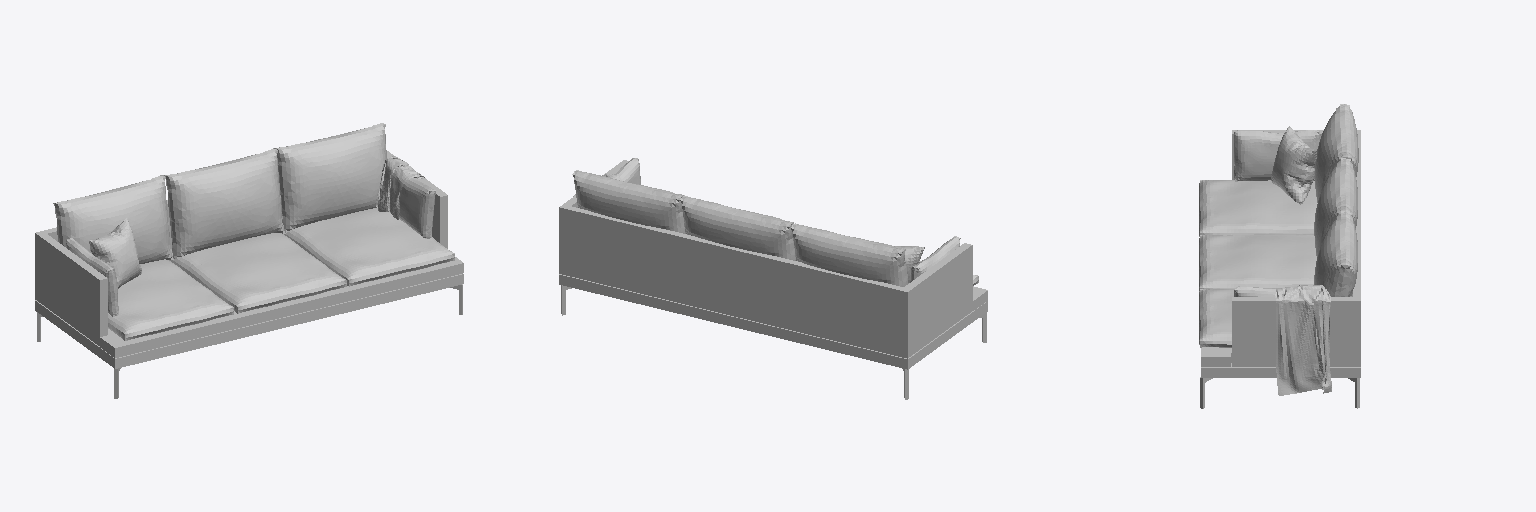
The model's file is couch_obj.obj.
The picture shows the model from 3 angles: view 1: azimuth 30°, elevation 25°; view 2: azimuth 150°, elevation 25°; view 3: azimuth 270°, elevation 25°; orthographic projection.
Parts seen in each view (by area): view 1: couch_Cube.015; view 2: couch_Cube.015; view 3: couch_Cube.015.
Boxes of the visible parts, <box> form: couch_Cube.015: <box>35,123,463,398</box>; couch_Cube.015: <box>559,158,987,399</box>; couch_Cube.015: <box>1199,104,1360,408</box>.
Bounding box in the file's own units: 3.07 × 1.15 × 1.2.